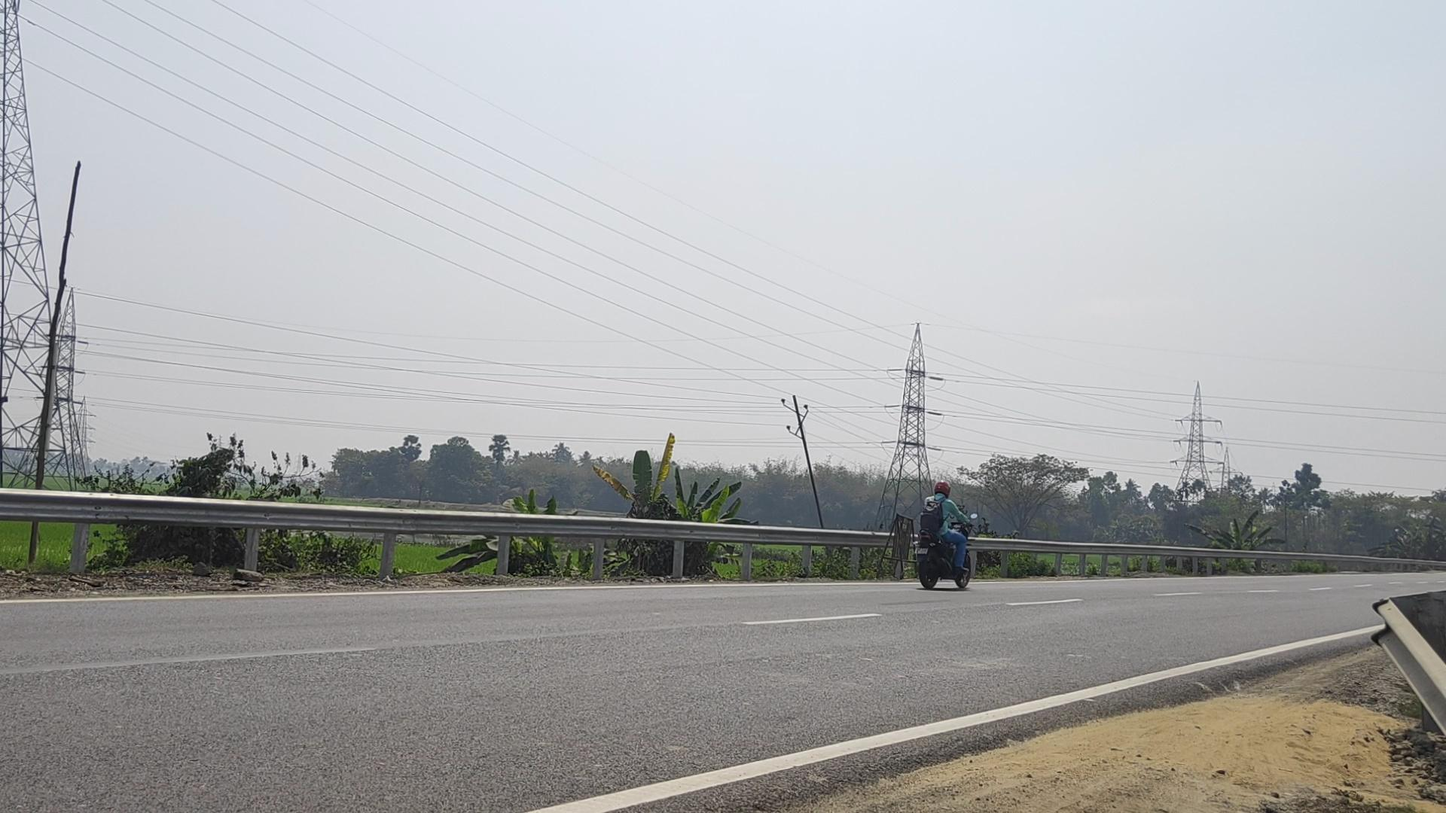bike: (914, 480, 978, 590)
